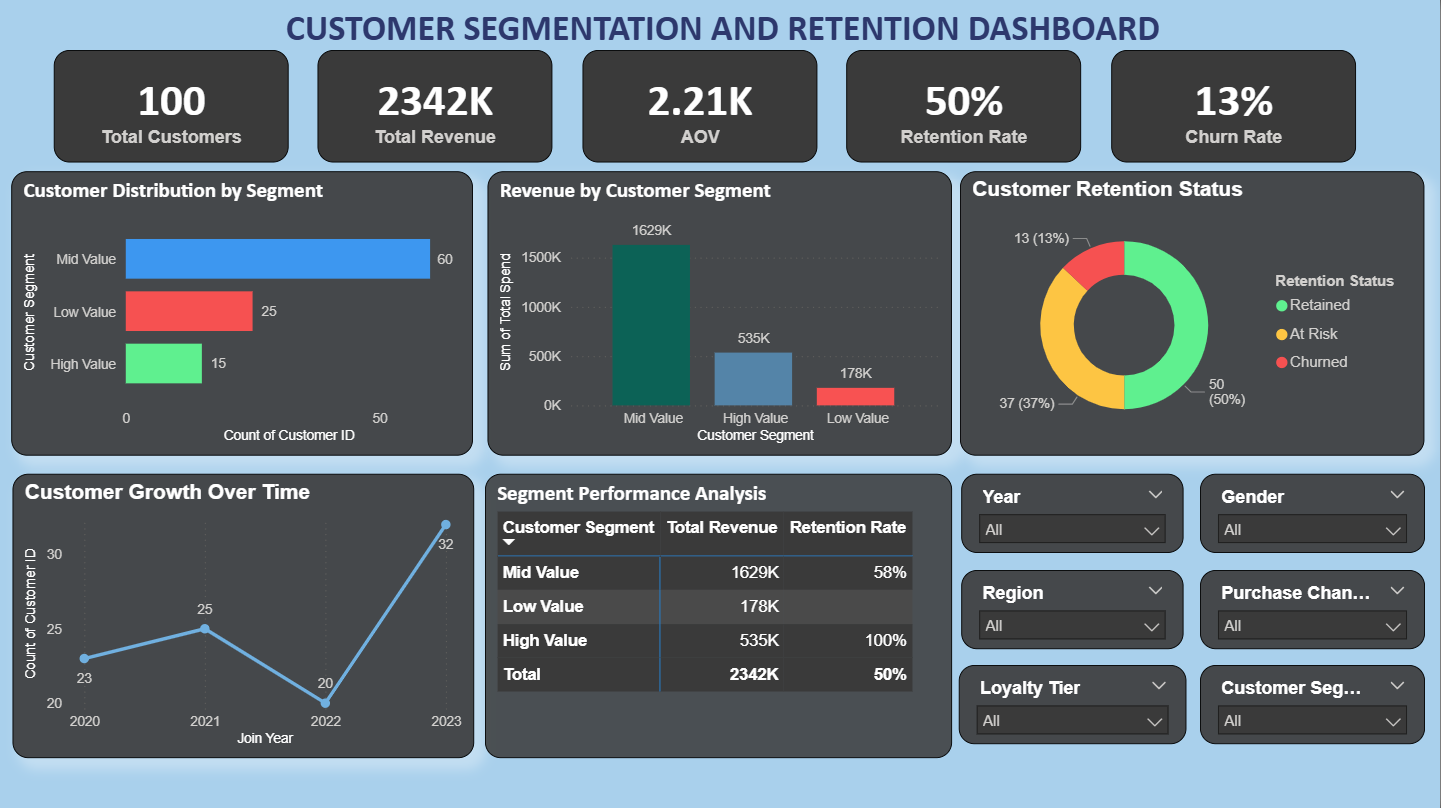

The page's visual inventory and layout, read from the dashboard file:
{"tool":"powerbi","page":{"name":"Page 1","canvas":[1280,720],"ordinal":0},"visuals":[{"type":"card","fields":{"Values":["Sheet1.Total Customers"]},"box":[47.2,44.2,208.8,100],"z":0},{"type":"card","fields":{"Values":["Sheet1.Total Revenue"]},"box":[282.2,44.2,208.8,100],"z":1000},{"type":"card","fields":{"Values":["Sheet1.AOV"]},"box":[517.2,44.2,208.8,100],"z":2000},{"type":"card","fields":{"Values":["Sheet1.Retention Rate"]},"box":[752.2,44.2,208.8,100],"z":3000},{"type":"card","fields":{"Values":["Sheet1.Churn Rate"]},"box":[987.2,44.2,217.5,100],"z":4000},{"type":"clusteredBarChart","title":"Customer Distribution by Segment","fields":{"Category":["Sheet1.Customer Segment"],"Y":["CountNonNull(Sheet1.Customer ID)"]},"box":[10,152.5,410,252.5],"z":5000},{"type":"columnChart","title":"Revenue by Customer Segment","fields":{"Category":["Sheet1.Customer Segment"],"Y":["Sum(Sheet1.Total Spend)"]},"box":[433.8,152.5,412.5,252.5],"z":6000},{"type":"donutChart","title":"Customer Retention Status","fields":{"Category":["Sheet1.Retention Status"],"Y":["CountNonNull(Sheet1.Customer ID)"]},"box":[853.8,152.5,412.5,252.5],"z":7000},{"type":"lineChart","title":"Customer Growth Over Time","fields":{"Y":["CountNonNull(Sheet1.Customer ID)"],"Category":["Sheet1.Join Year"]},"box":[11.2,421.2,410,252.5],"z":8000},{"type":"slicer","fields":{"Values":["Sheet1.Region"]},"box":[854.6,506.2,197.5,70],"z":9000},{"type":"slicer","fields":{"Values":["Sheet1.Gender"]},"box":[1067.1,421.2,200,70],"z":10000},{"type":"slicer","fields":{"Values":["Sheet1.Purchase Channel"]},"box":[1067.1,506.2,200,70],"z":11000},{"type":"slicer","fields":{"Values":["Sheet1.Loyalty Tier"]},"box":[852.1,591.2,202.5,70],"z":12000},{"type":"slicer","fields":{"Values":["Sheet1.Customer Segment"]},"box":[1067.1,591.2,200,70],"z":13000},{"type":"slicer","fields":{"Values":["Sheet1.Join Date.Variation.Date Hierarchy.Year"]},"box":[854.6,421.2,197.5,70],"z":14000},{"type":"textbox","box":[248.8,0,820,56.2],"z":15000},{"type":"pivotTable","title":"Segment Performance Analysis","fields":{"Rows":["Sheet1.Customer Segment"],"Values":["Sheet1.Total Revenue","Sheet1.Retention Rate"]},"box":[431.2,421.2,415,252.5],"z":16000}]}

Visuals, with their boxes in screenshot pixels (x1, y1, x2, y2), scaled from the page's 1280x720 canvas onto the 1441x808 screenshot:
card - Sheet1.Total Customers: pyautogui.locateOnScreen(53, 50, 288, 162)
card - Sheet1.Total Revenue: pyautogui.locateOnScreen(318, 50, 553, 162)
card - Sheet1.AOV: pyautogui.locateOnScreen(582, 50, 817, 162)
card - Sheet1.Retention Rate: pyautogui.locateOnScreen(847, 50, 1082, 162)
card - Sheet1.Churn Rate: pyautogui.locateOnScreen(1111, 50, 1356, 162)
"Customer Distribution by Segment" clusteredBarChart: pyautogui.locateOnScreen(11, 171, 473, 454)
"Revenue by Customer Segment" columnChart: pyautogui.locateOnScreen(488, 171, 953, 454)
"Customer Retention Status" donutChart: pyautogui.locateOnScreen(961, 171, 1426, 454)
"Customer Growth Over Time" lineChart: pyautogui.locateOnScreen(13, 473, 474, 756)
slicer - Sheet1.Region: pyautogui.locateOnScreen(962, 568, 1184, 647)
slicer - Sheet1.Gender: pyautogui.locateOnScreen(1201, 473, 1426, 551)
slicer - Sheet1.Purchase Channel: pyautogui.locateOnScreen(1201, 568, 1426, 647)
slicer - Sheet1.Loyalty Tier: pyautogui.locateOnScreen(959, 663, 1187, 742)
slicer - Sheet1.Customer Segment: pyautogui.locateOnScreen(1201, 663, 1426, 742)
slicer - Sheet1.Join Date.Variation.Date Hierarchy.Year: pyautogui.locateOnScreen(962, 473, 1184, 551)
textbox: pyautogui.locateOnScreen(280, 0, 1203, 63)
"Segment Performance Analysis" pivotTable: pyautogui.locateOnScreen(485, 473, 953, 756)
